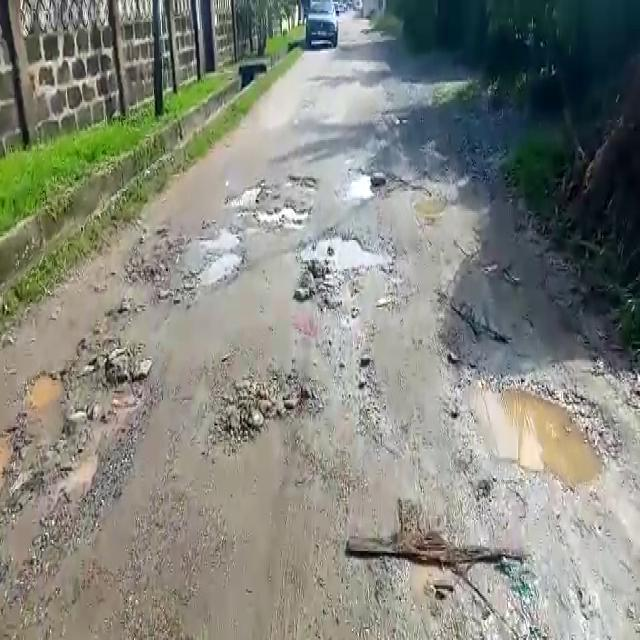Pothole: (341, 534, 561, 640), (460, 366, 610, 490), (288, 228, 404, 287), (227, 180, 316, 227), (192, 251, 248, 287), (26, 371, 65, 410), (454, 169, 493, 208), (195, 225, 241, 254), (0, 428, 20, 486), (348, 170, 381, 202), (414, 192, 450, 218), (288, 174, 323, 192)
